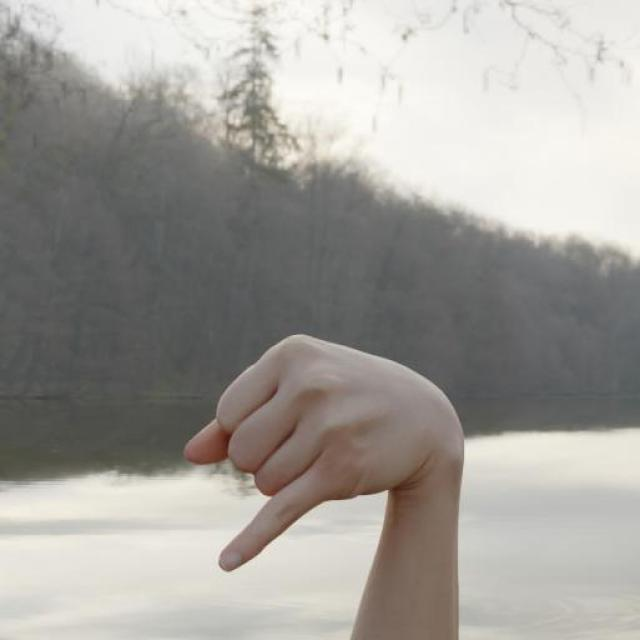J: (181, 336, 466, 573)
